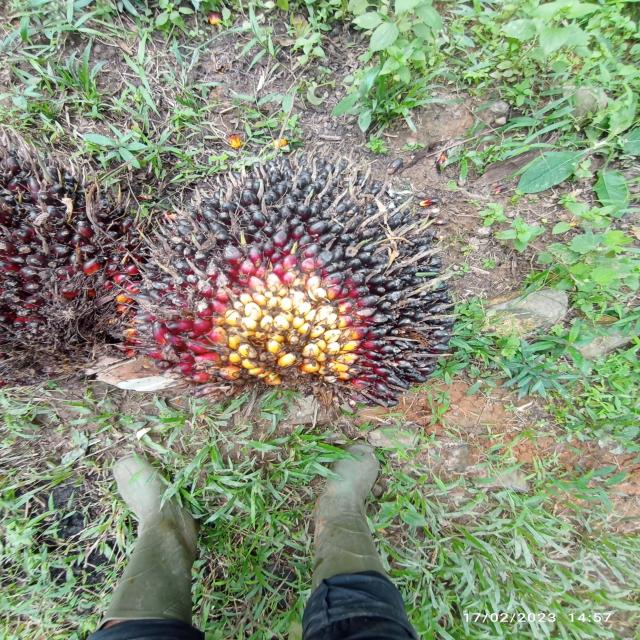fraksi 00: (94, 111, 497, 416)
